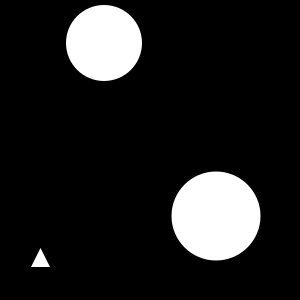rectangle: (172, 172, 260, 260), (66, 5, 142, 81)
triangle: (31, 248, 50, 267)
